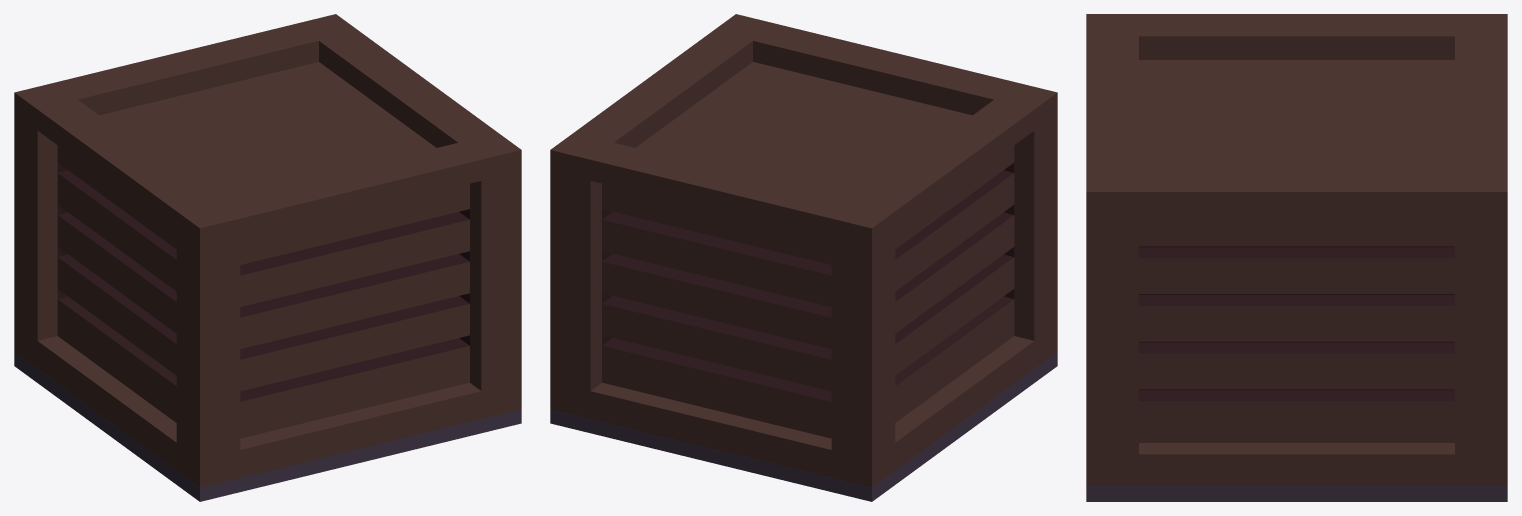
The model's file is crate.dae.
The picture shows the model from 3 angles, left to right: view 1: azimuth 30°, elevation 25°; view 2: azimuth 150°, elevation 25°; view 3: azimuth 270°, elevation 25°; orthographic projection. The views are drawn at different scales.
Parts seen in each view (by area): view 1: storage_crate_MSH; view 2: storage_crate_MSH; view 3: storage_crate_MSH.
Part boxes in pixels (x1,y1,x2,y2): storage_crate_MSH: (14,14,521,501); storage_crate_MSH: (550,14,1057,501); storage_crate_MSH: (1086,14,1507,501).
Bounding box in the file's own units: 1 × 0.8125 × 1.
